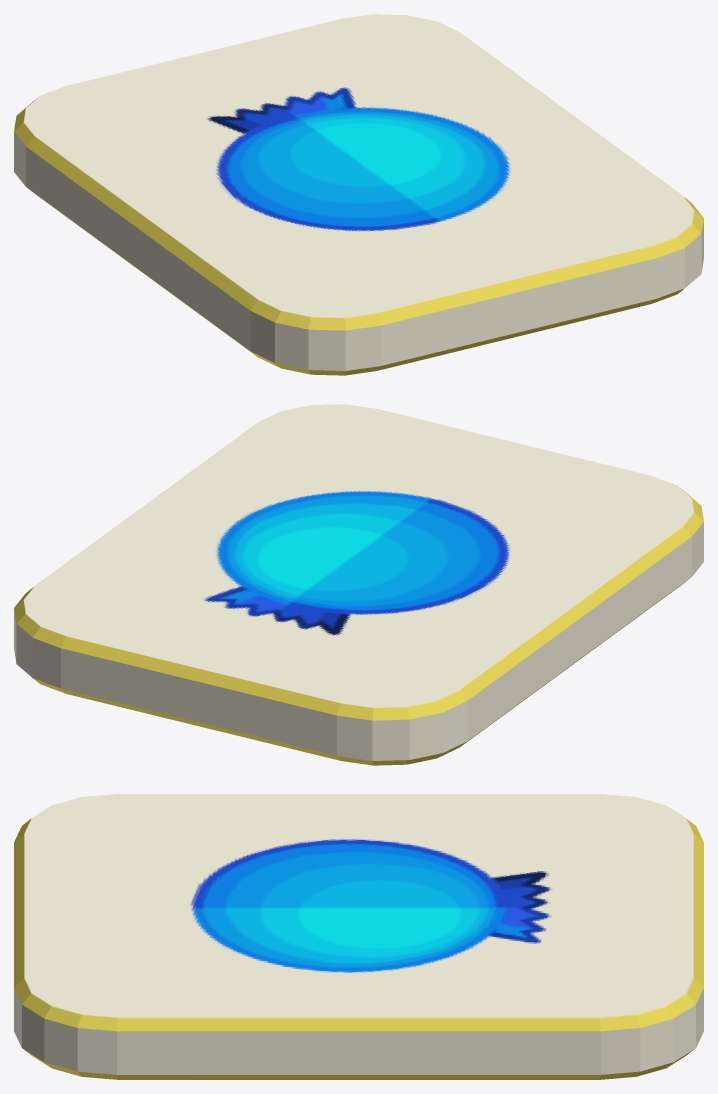
Rendered from memory_card_2.fbx.
The picture shows the model from 3 angles, top to bottom: view 1: azimuth 30°, elevation 25°; view 2: azimuth 150°, elevation 25°; view 3: azimuth 270°, elevation 25°; orthographic projection. The views are drawn at different scales.
Parts seen in each view (by area): view 1: Card2; view 2: Card2; view 3: Card2.
Part boxes in pixels (bbox=[...]): Card2: bbox=[14, 14, 703, 375]; Card2: bbox=[14, 404, 703, 765]; Card2: bbox=[14, 794, 703, 1079].
Bounding box in the file's own units: 40 × 5 × 50.22.
